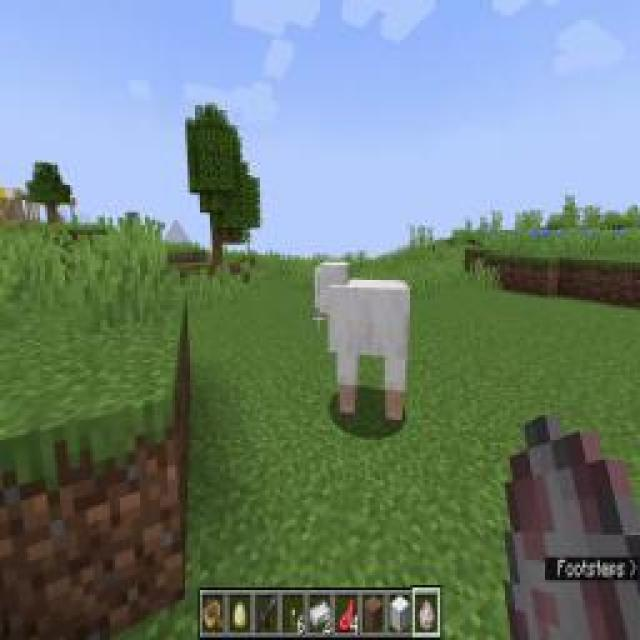Sheep: (312, 256, 412, 429)
